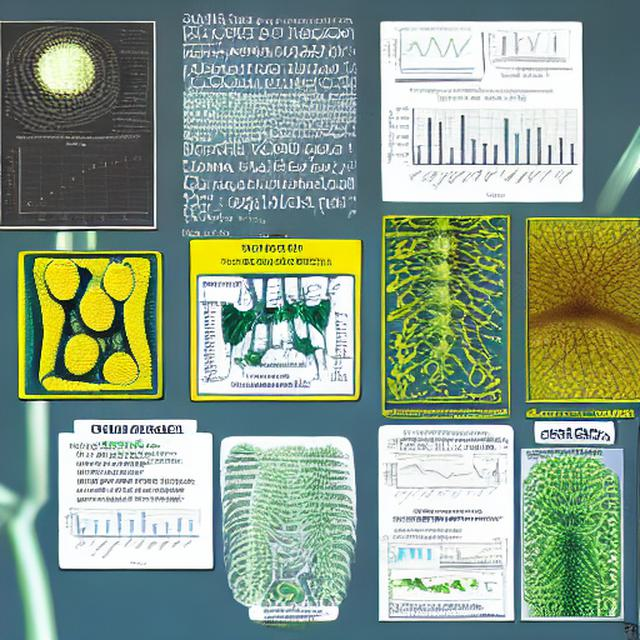Graph: (382, 84, 582, 200), (1, 133, 154, 226), (60, 486, 200, 567), (379, 453, 473, 509), (389, 26, 476, 78)
